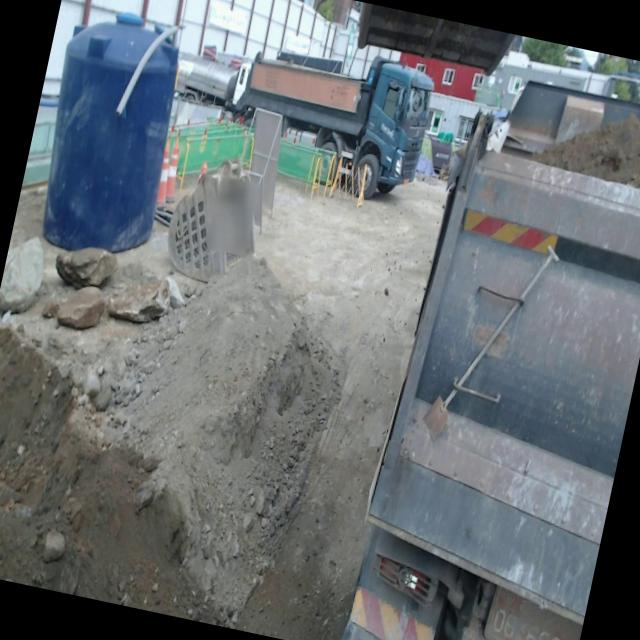red-sand: (0, 328, 211, 624), (531, 116, 640, 187)
stone: (0, 237, 43, 312), (106, 277, 172, 322), (55, 247, 117, 288), (56, 286, 105, 329)
white-sand: (102, 260, 341, 628)
